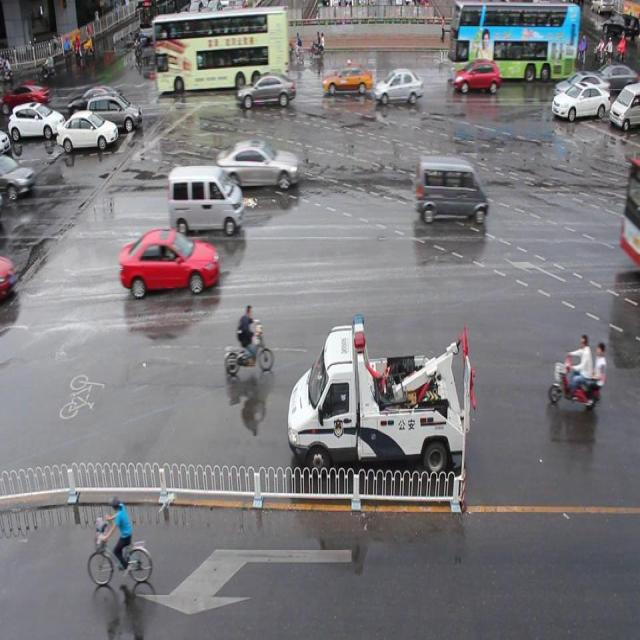car: (120, 228, 219, 296), (218, 138, 297, 195), (550, 80, 609, 123), (238, 74, 294, 110), (376, 68, 423, 106), (452, 59, 499, 97), (321, 63, 373, 96), (554, 70, 607, 98)
truck: (415, 153, 486, 227), (168, 166, 242, 231)
van: (152, 1, 287, 93), (446, 1, 576, 78), (618, 152, 640, 265)
